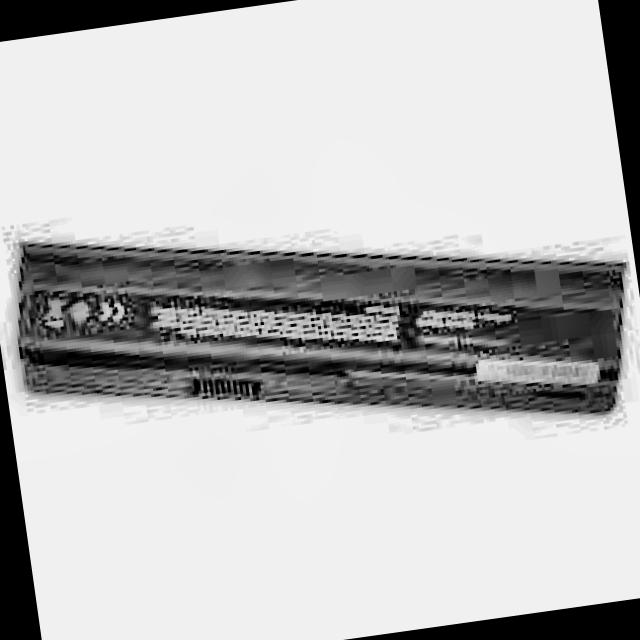Battery: (2, 165, 640, 491)
